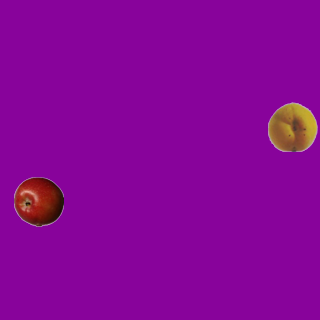Apple Braeburn: (13, 176, 63, 226)
Peach 2: (267, 101, 317, 151)
